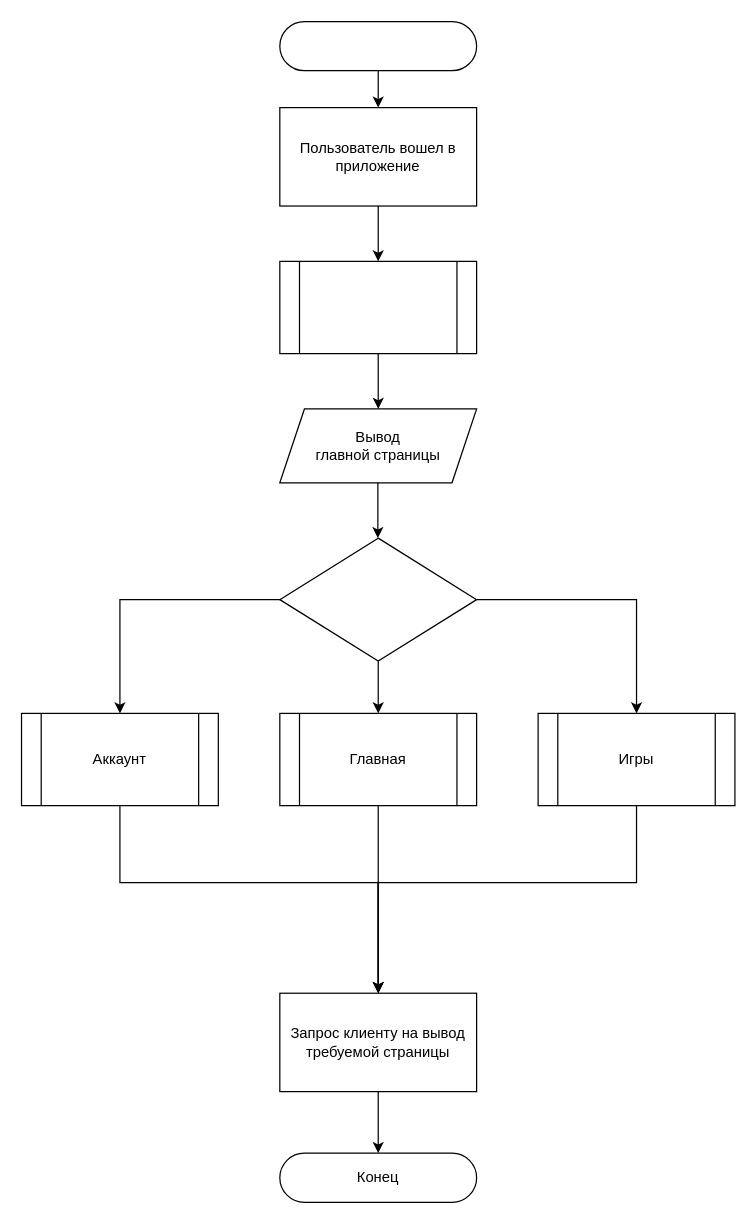
Some shapes in this 756 by 1224 pixel diagram are drawn without their labels. Here are the shapes that lost their labels. From the top down, the box of each, then its label:
(279, 20, 477, 71): Начало
(279, 260, 477, 354): Аторизация
(279, 537, 477, 661): Переход на страницу
